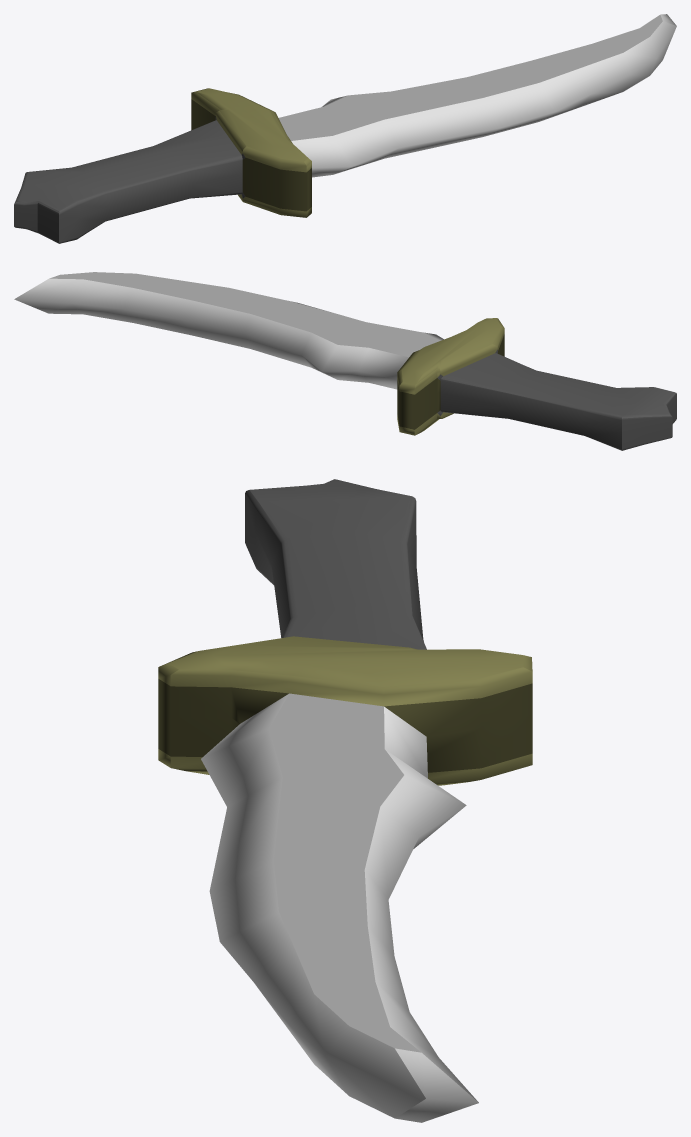
File: Dolch.fbx
The picture shows the model from 3 angles, top to bottom: view 1: azimuth 30°, elevation 25°; view 2: azimuth 150°, elevation 25°; view 3: azimuth 270°, elevation 25°; orthographic projection. The views are drawn at different scales.
Parts seen in each view (by area): view 1: Dolch; view 2: Dolch; view 3: Dolch.
Part boxes in pixels (bbox=[...]): Dolch: bbox=[14, 14, 676, 243]; Dolch: bbox=[14, 272, 676, 450]; Dolch: bbox=[158, 479, 532, 1122].
Size of the model in its own units: 2.03 by 0.1826 by 0.5295.
